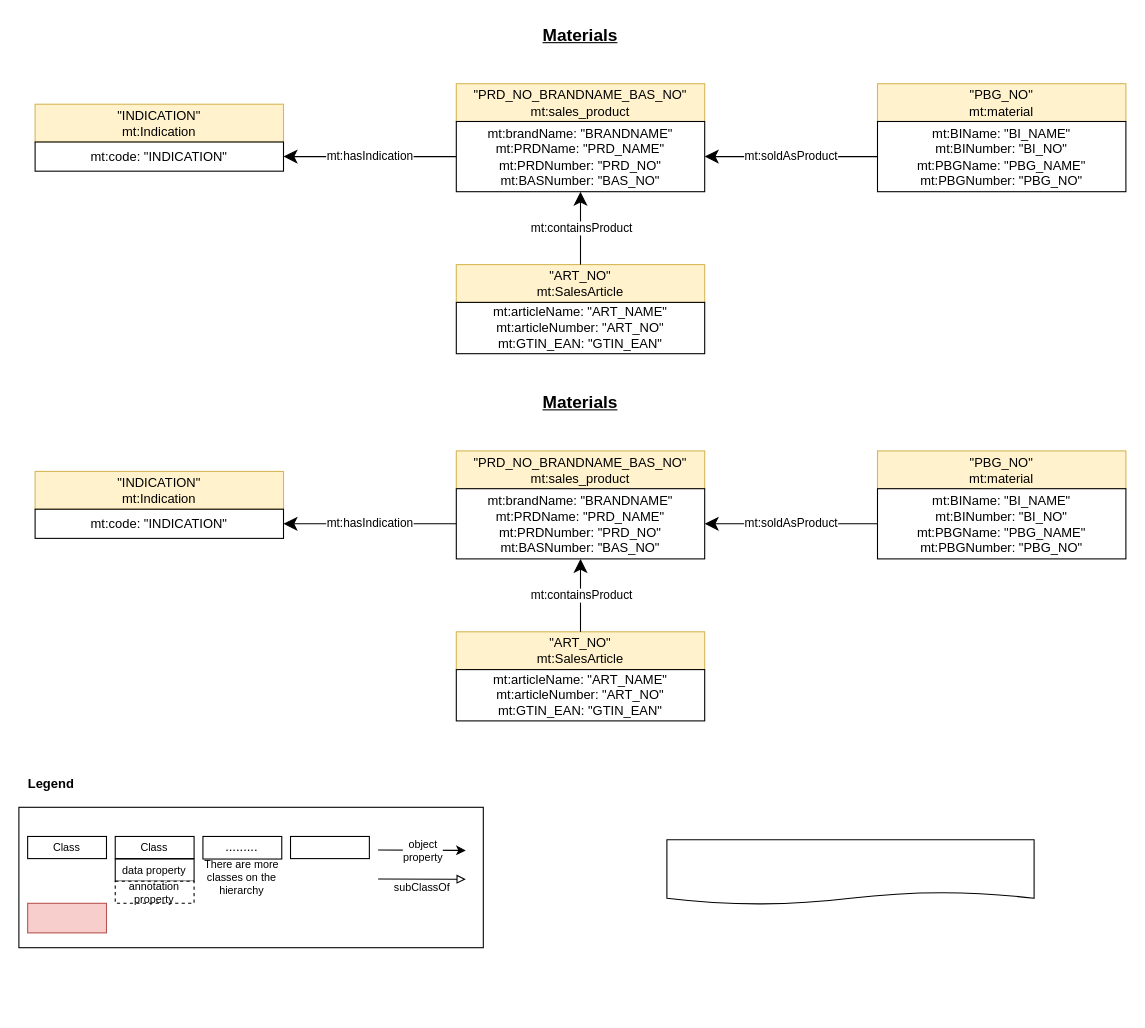
This 1145x1028 diagram has some shape labels left out. The box of each missing label's shape, as (x1, y1, x2, y2) in pixels:
Individual: (289, 835, 369, 859)
source file : processed_materials_hive_20K.csv: (666, 839, 1034, 905)
Term excluded for the current version: (27, 902, 106, 933)
